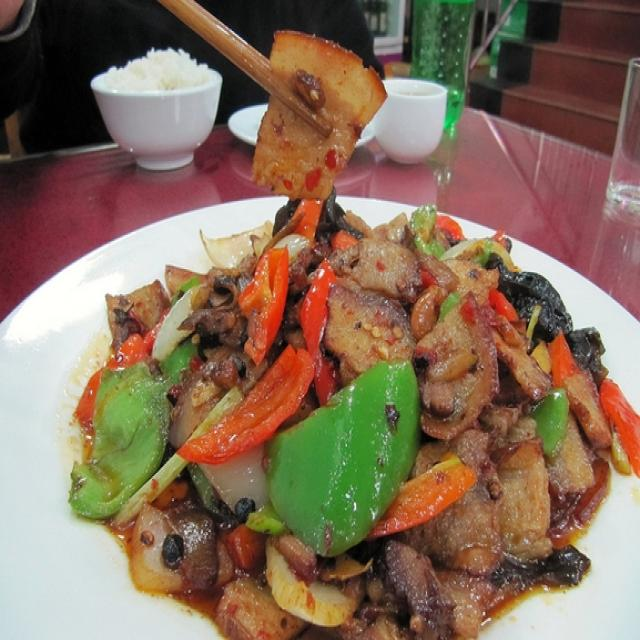熟制海鲜: (20, 202, 637, 640)
蔬菜料理: (422, 0, 640, 258)
